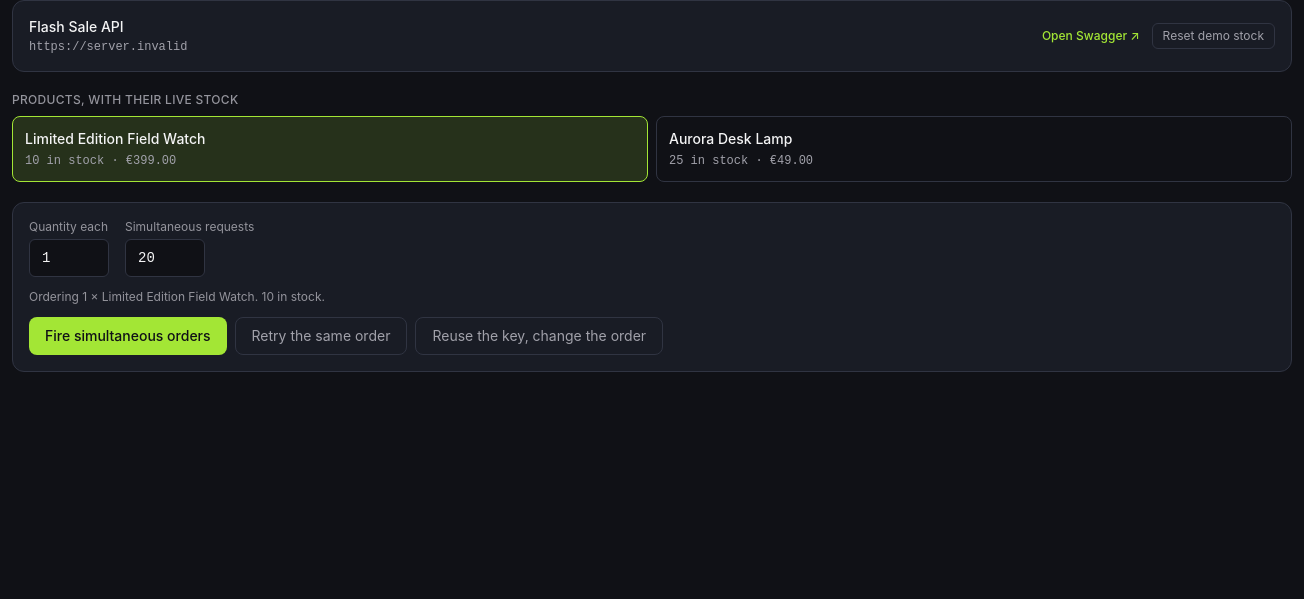
it: FlashSaleLab › distinguishes a replay from a new order
expect the text "Aurora Desk Lamp" is shown: met, box [669,130,792,147]
Click the button "Retry the same order": (321, 336) [235,317,408,355]
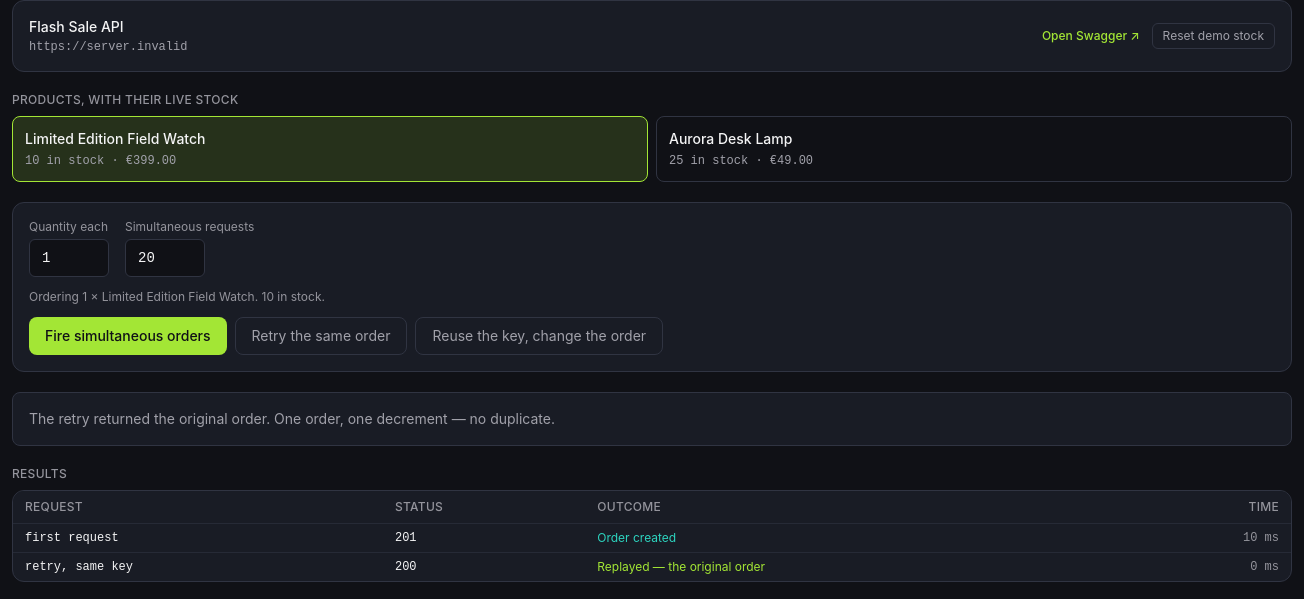
expect the text "Order created" is shown: met, box [585,524,1123,552]
expect the text "Replayed — the original order" is shown: met, box [585,552,1123,581]
expect the text "One order, one decrement" is shown: met, box [29,410,555,427]
